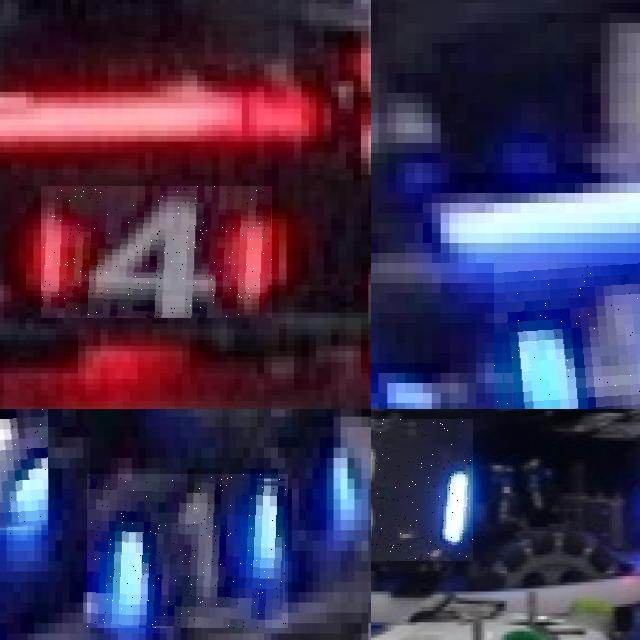B1: (87, 474, 288, 628), (0, 409, 48, 535)
B3: (371, 419, 473, 560)
B4: (494, 263, 640, 409)
R4: (41, 186, 272, 318)
